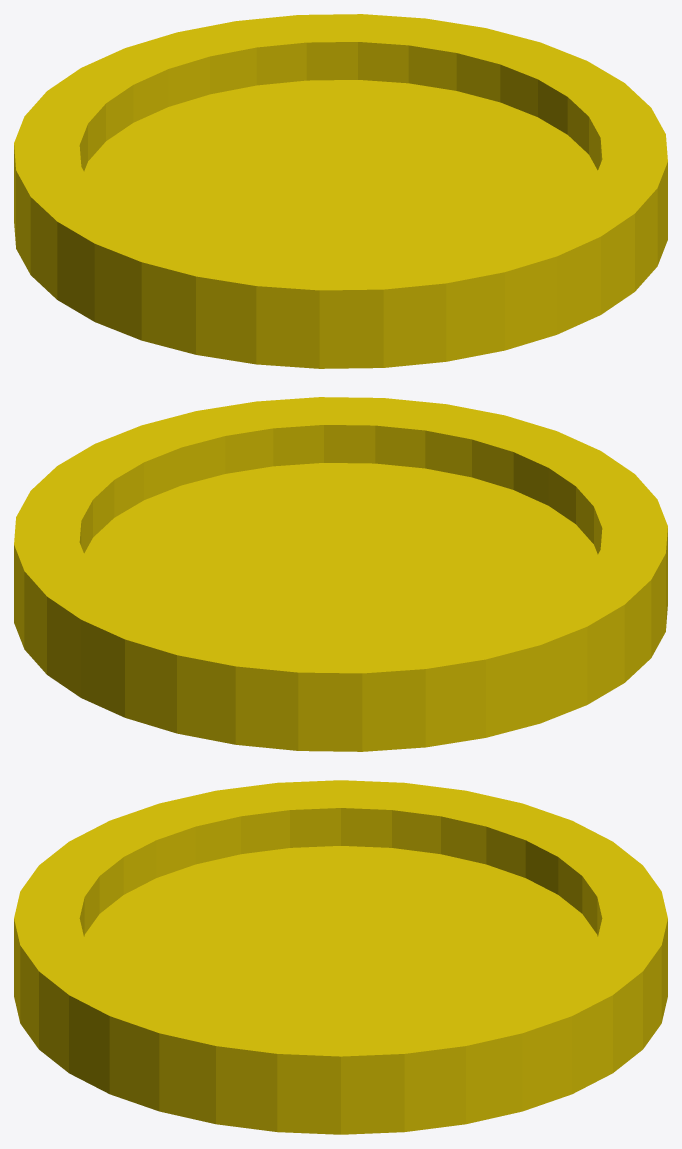
The model's file is coin.glb.
3 renders of one model, top to bottom at view 1: azimuth 30°, elevation 25°; view 2: azimuth 150°, elevation 25°; view 3: azimuth 270°, elevation 25°, orthographic.
Parts seen in each view (by area): view 1: Coin; view 2: Coin; view 3: Coin.
Boxes of the visible parts, x1,y1,x2,y2 form: Coin: (14,14,667,368); Coin: (14,397,667,751); Coin: (14,780,667,1134).
Bounding box in the file's own units: 2 × 0.264 × 2.
